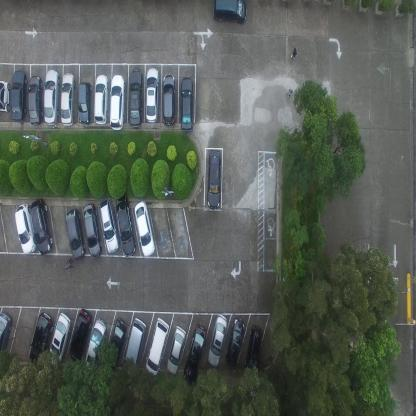car: (182, 324, 207, 384), (145, 316, 170, 376), (68, 307, 92, 366), (123, 316, 147, 373), (115, 192, 136, 256), (30, 198, 53, 256), (29, 311, 53, 366), (134, 200, 156, 258), (84, 318, 107, 372), (48, 310, 70, 366), (99, 197, 120, 255), (206, 313, 228, 368), (106, 316, 128, 369), (14, 203, 36, 256), (224, 317, 245, 369), (83, 202, 102, 259), (66, 207, 86, 260), (244, 326, 264, 378), (166, 325, 186, 376), (10, 68, 28, 124), (43, 67, 60, 126), (206, 148, 221, 210), (109, 73, 125, 129), (213, 0, 247, 26), (180, 76, 195, 134), (60, 70, 75, 126), (146, 66, 160, 125), (129, 66, 142, 129), (28, 74, 43, 124), (162, 74, 176, 127), (94, 73, 108, 126), (78, 80, 92, 125), (0, 310, 12, 359), (0, 79, 10, 112)
